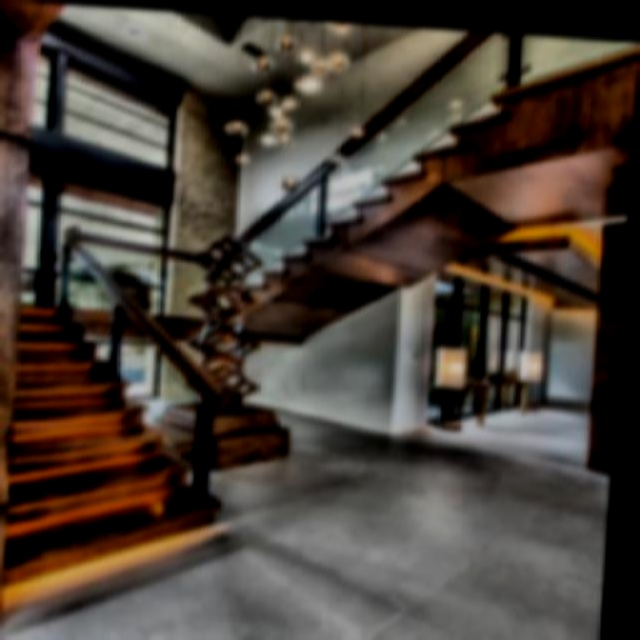stair: (0, 289, 237, 592)
